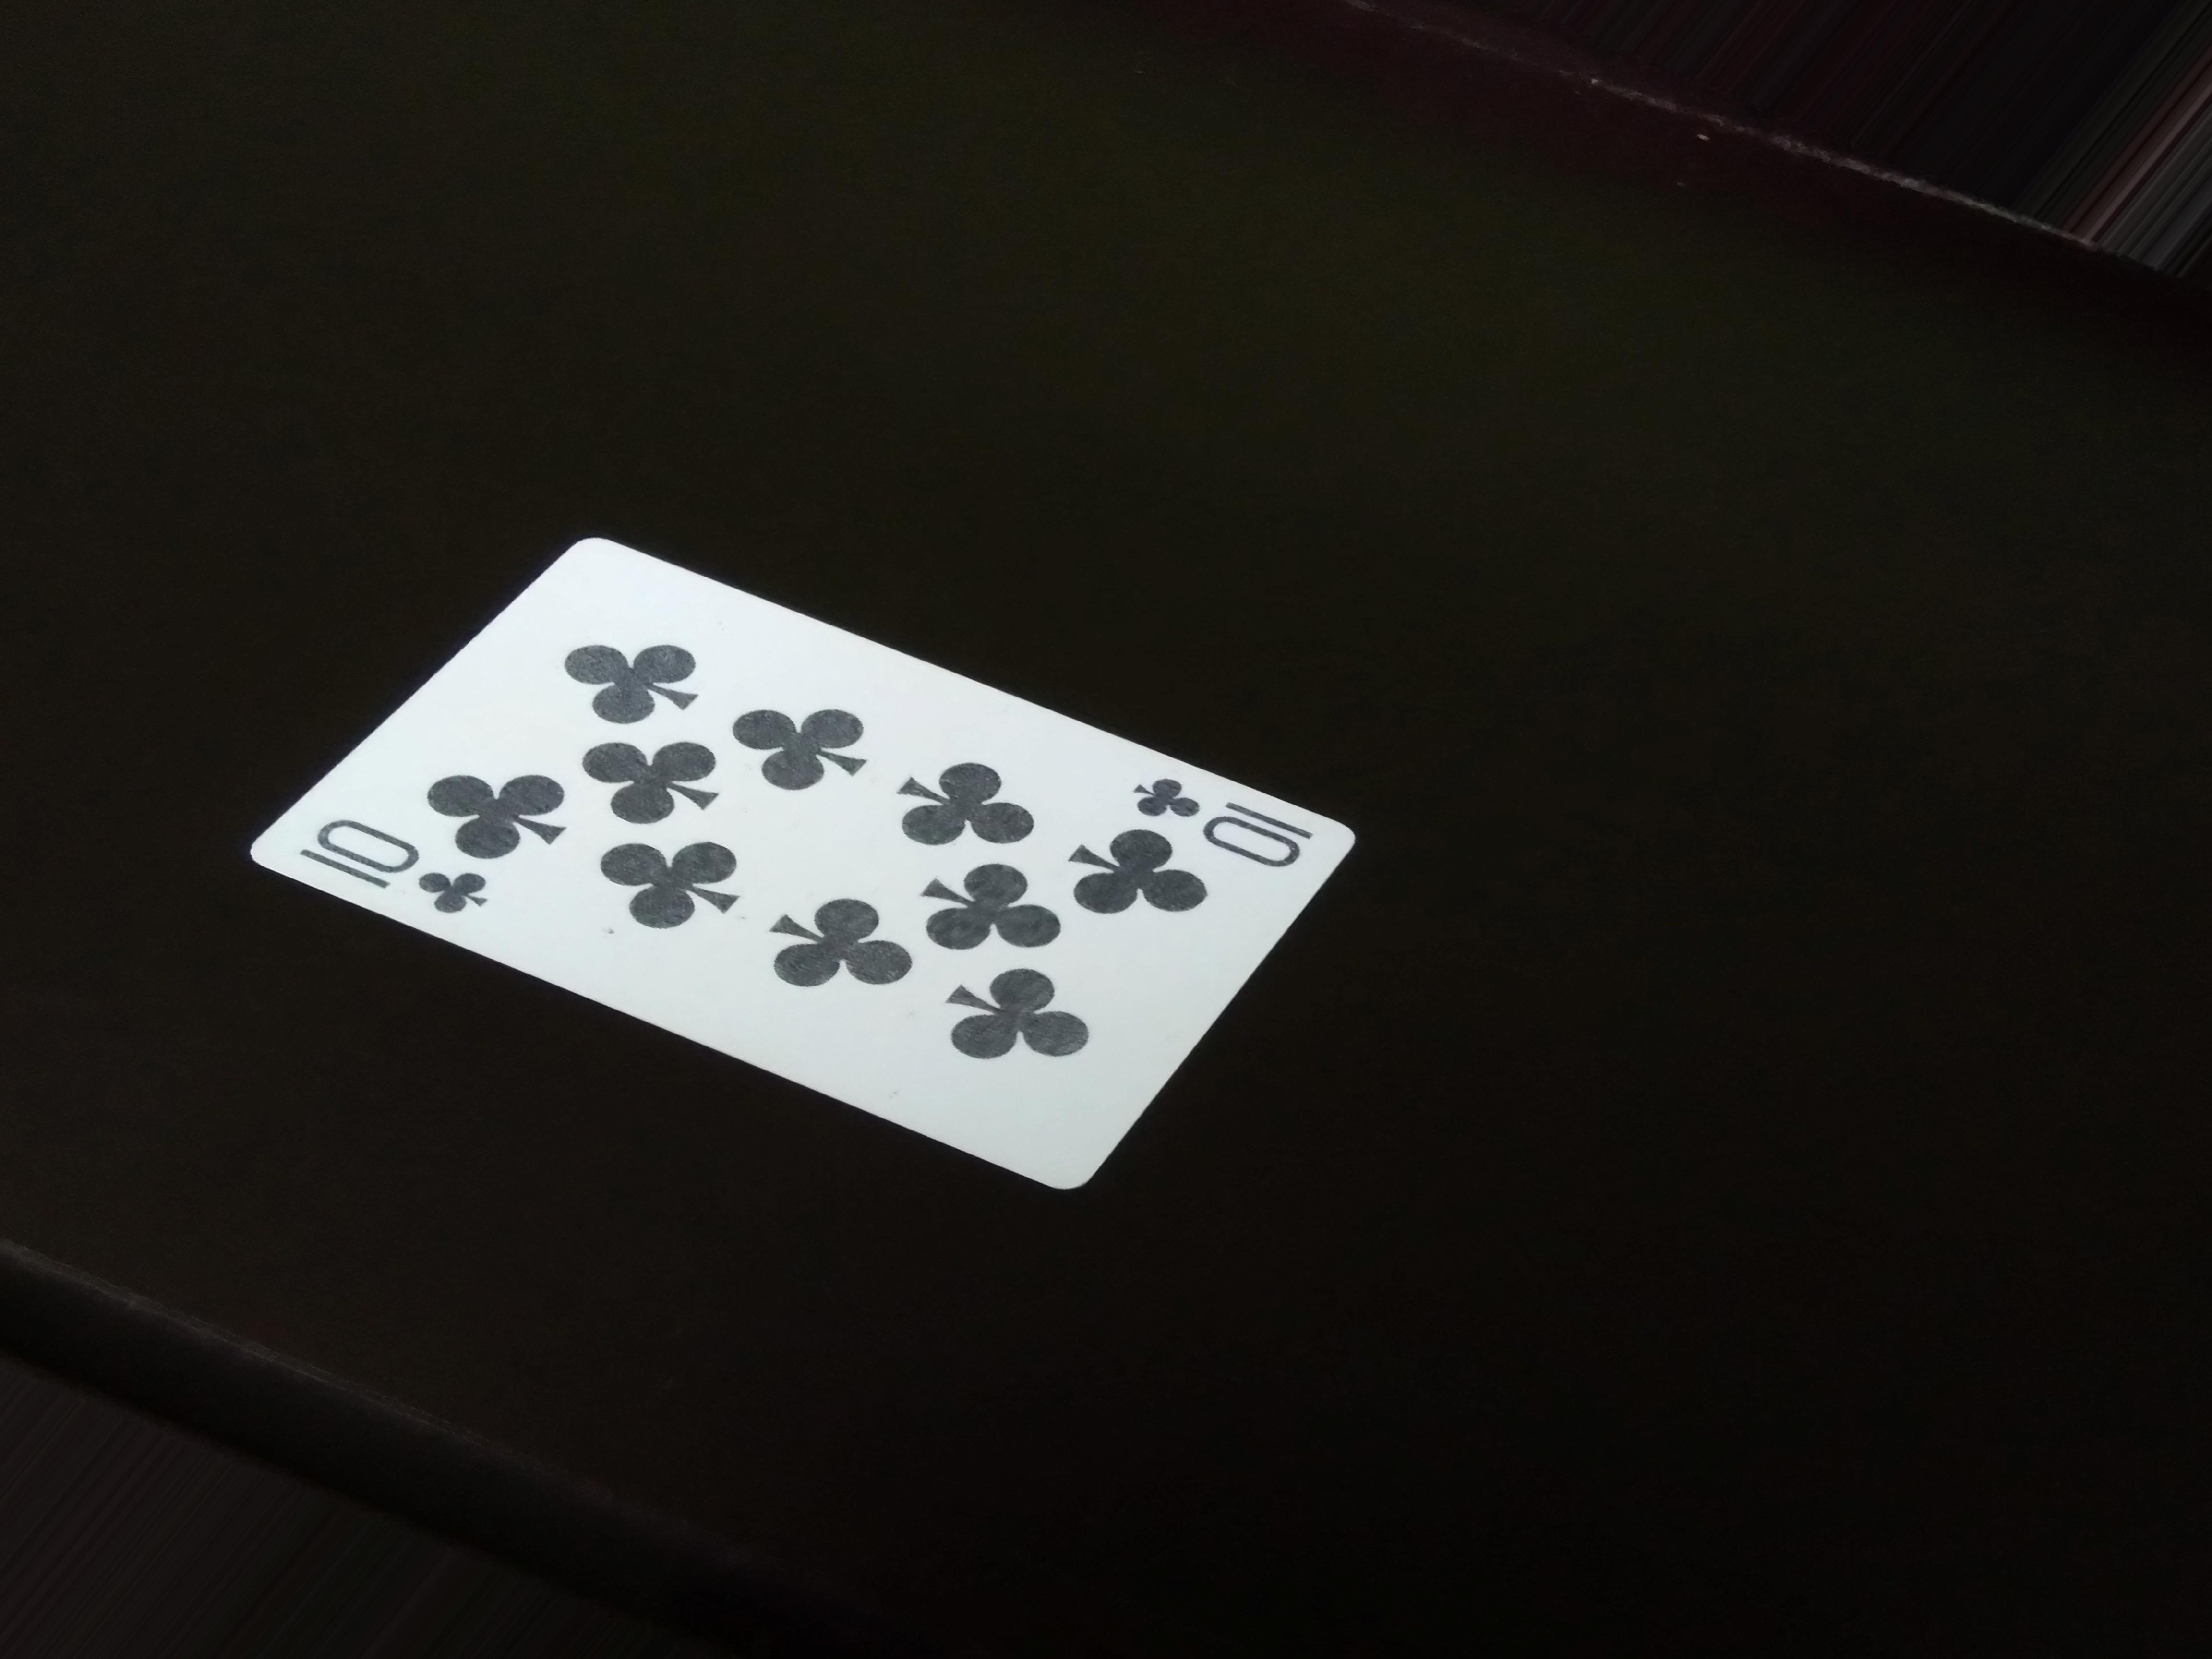10C: (289, 817, 503, 927)
